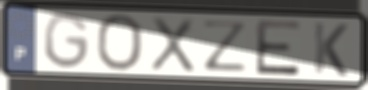E: (253, 18, 304, 78)
G: (41, 11, 92, 72)
K: (311, 20, 350, 79)
O: (94, 12, 146, 74)
X: (148, 14, 197, 75)
Z: (200, 19, 252, 73)
